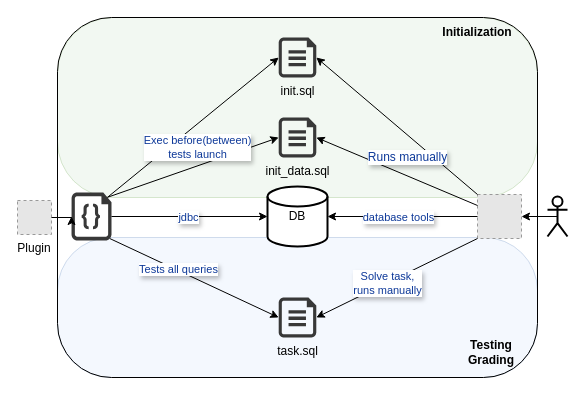
The diagram is 587 pixels wide and 395 high, and some of its shapes have lost their labels. Grey dashed boxes stand in for pictures. Here are the shapes that lost their labels. From the top down, the centre of each, then its label:
At (x=91, y=216): "Tests.kt".
At (x=557, y=216): "User".
